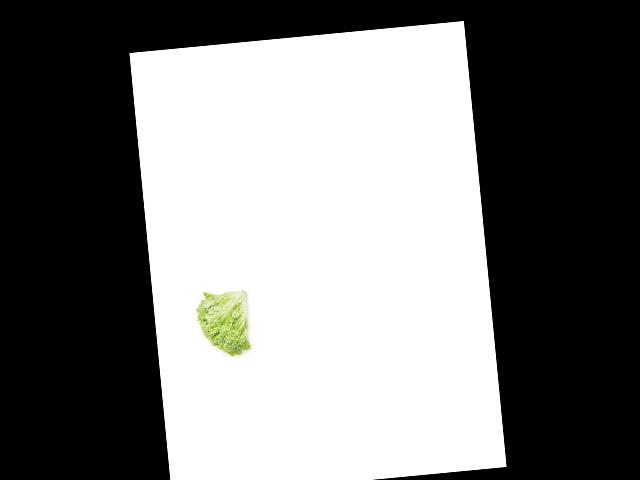lettuce: (190, 285, 258, 363)
